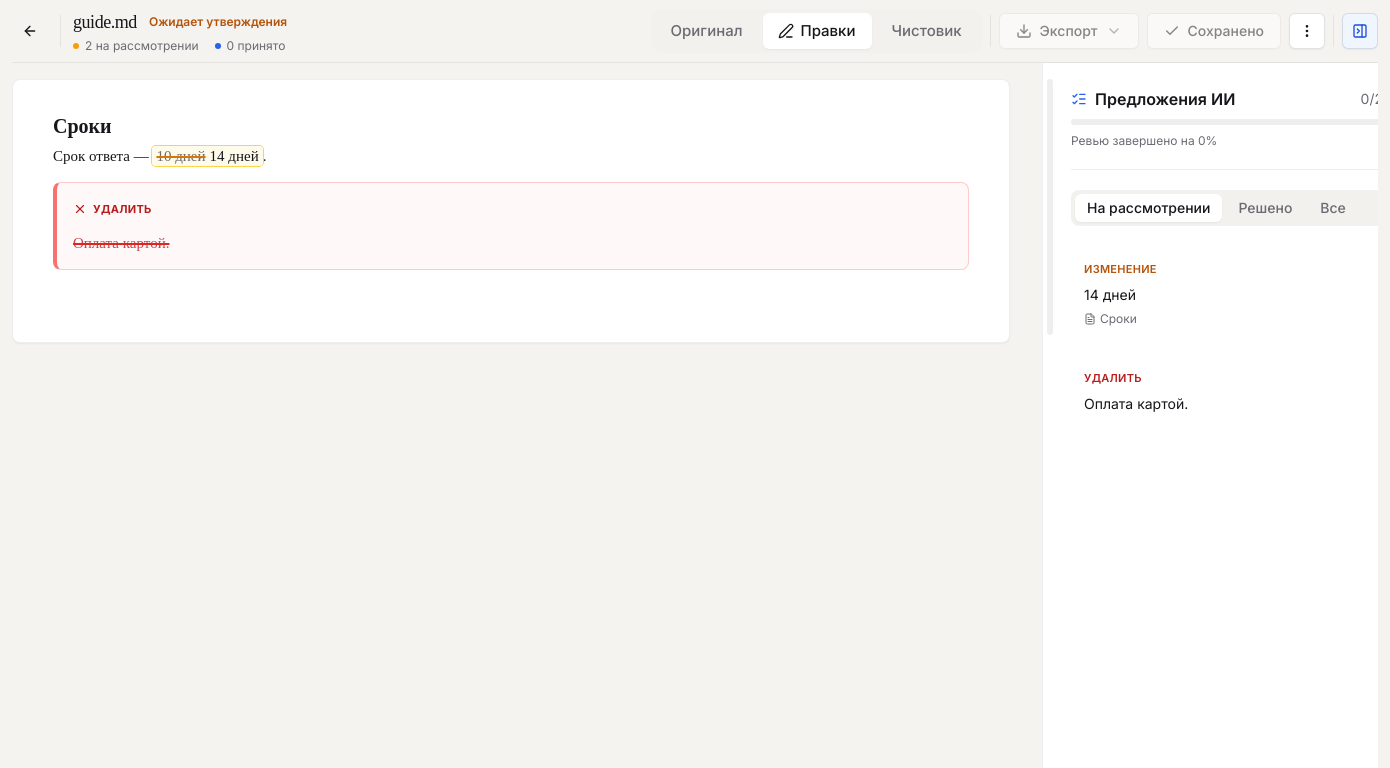
it: Редактор правок › несохранённое решение отменяется локально, без запроса
The image size is (1390, 768).
Click the text "14 дней" below "Ревью завершено на": [1110, 294] box top-left (1084, 286), bottom-right (1136, 303)
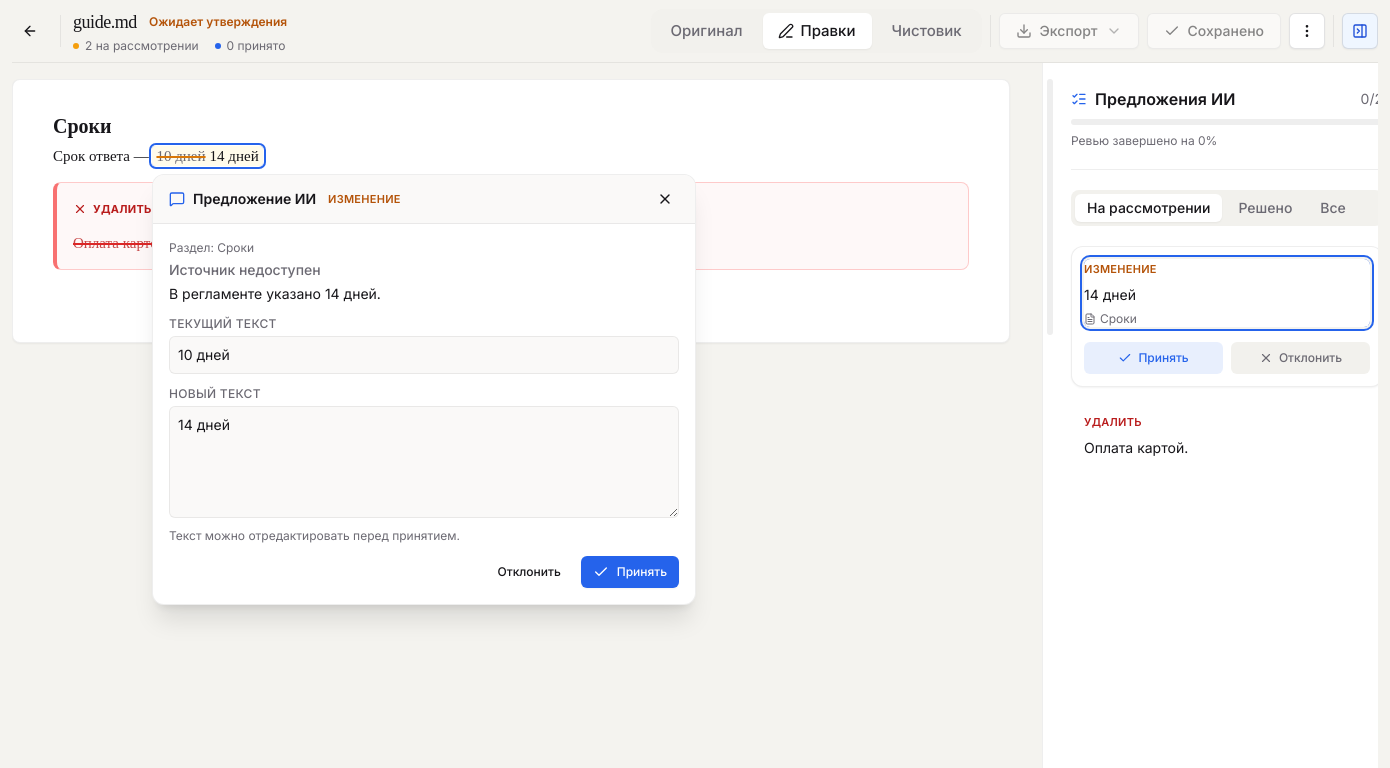
Click the button "Принять" below "В регламенте указано 14 дней.": [630, 572] box top-left (581, 556), bottom-right (679, 588)
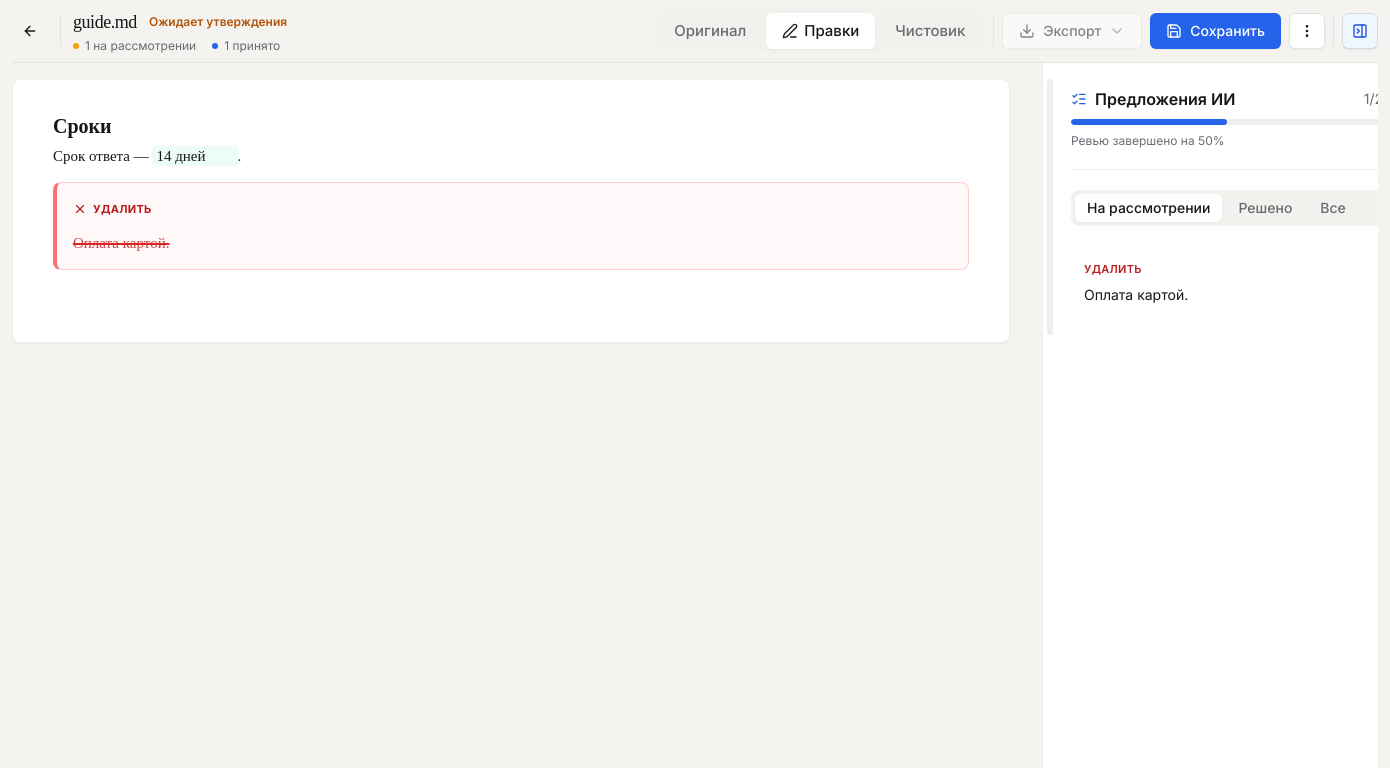
Click the radio button labelled "Решено": [1265, 208] box top-left (1226, 194), bottom-right (1304, 222)
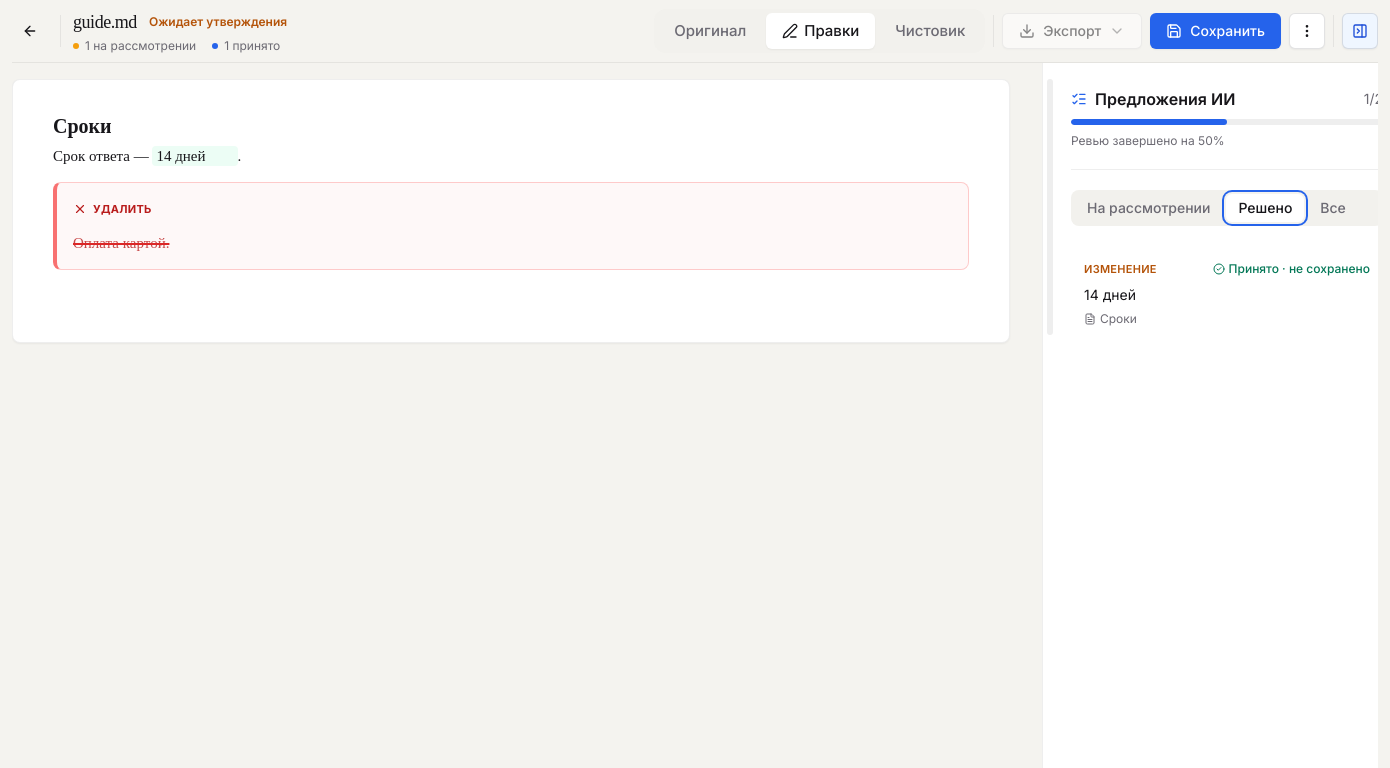
Click the text "14 дней" below "Ревью завершено на": [1110, 294] box top-left (1084, 286), bottom-right (1136, 303)
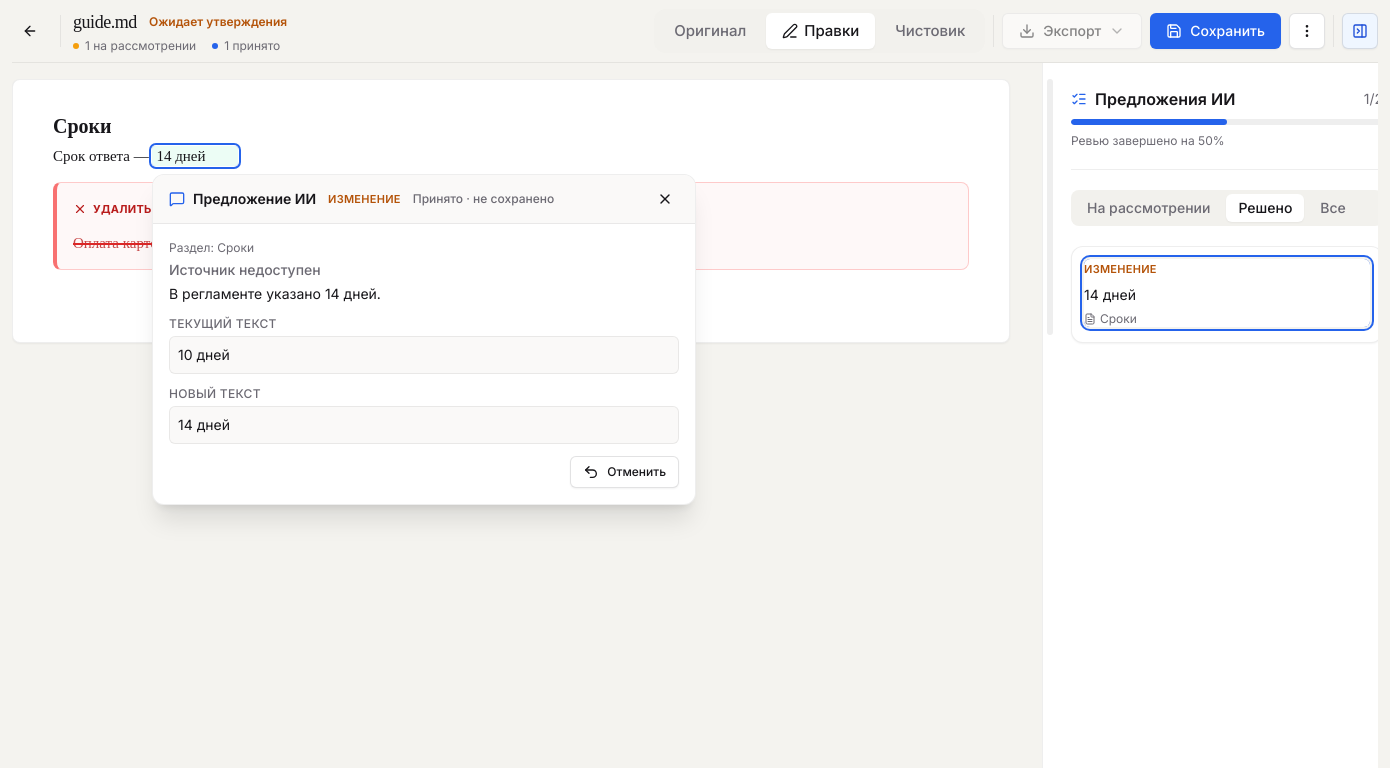
Click the button "Отменить": [625, 472] box top-left (570, 456), bottom-right (679, 488)
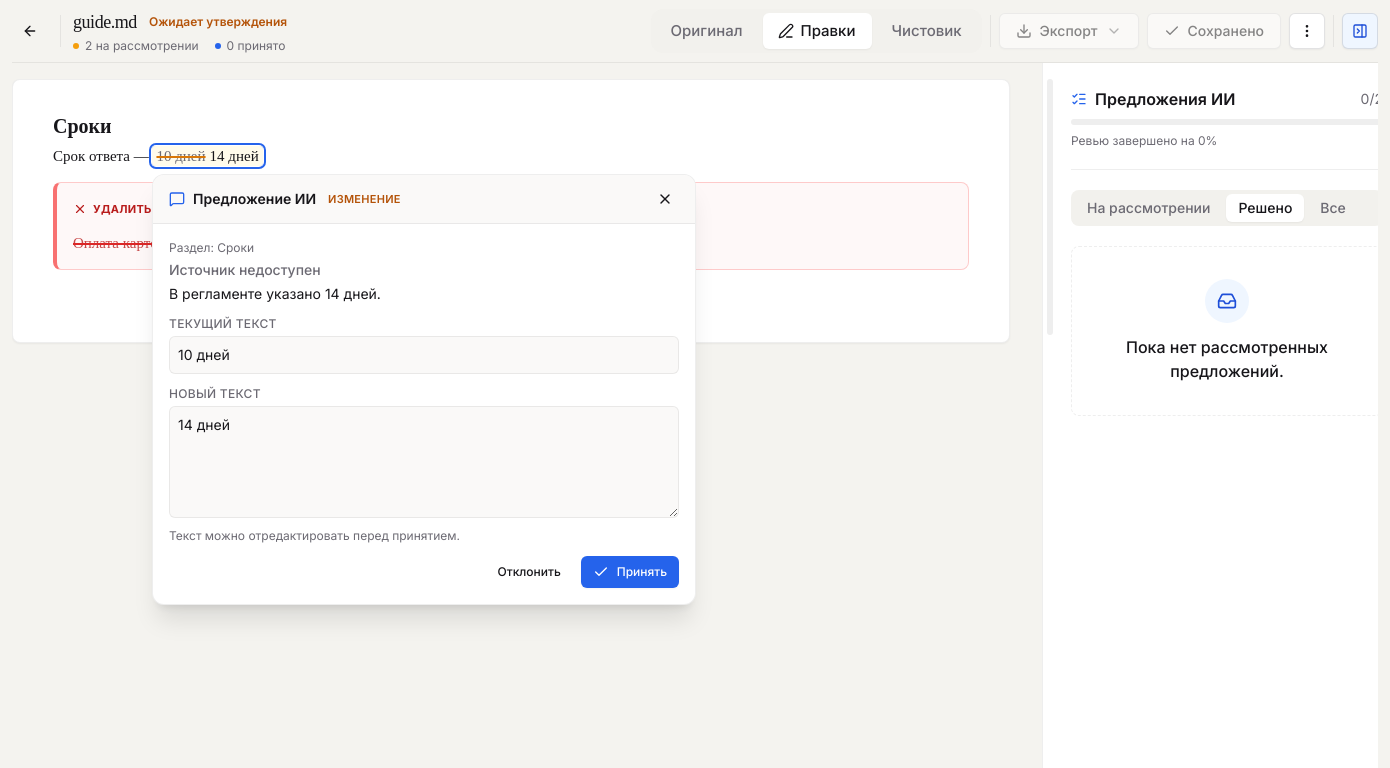
Result: the text "Пока нет рассмотренных предложений." is shown at top-left (1126, 337), bottom-right (1328, 381)
Result: the button "Сохранено" is disabled at top-left (1147, 13), bottom-right (1281, 49)
